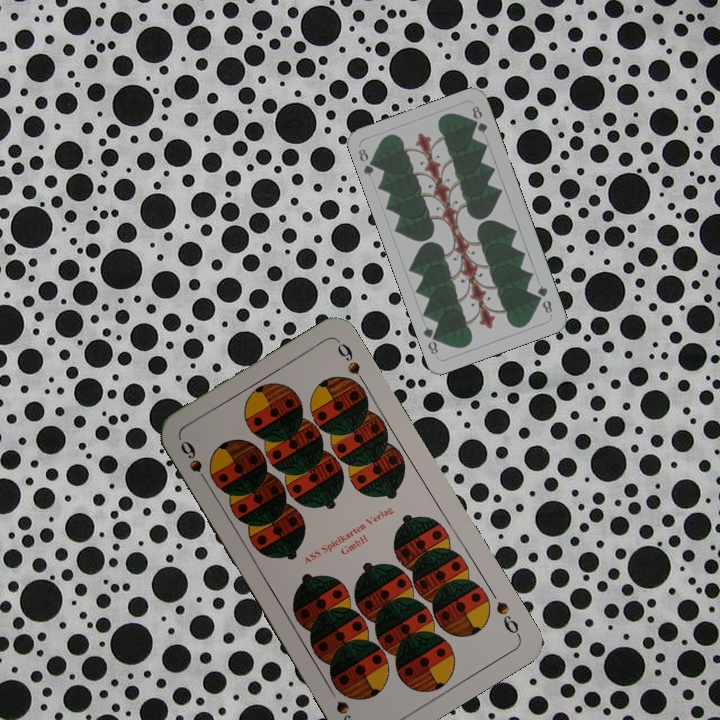G8: (354, 144, 379, 179), (533, 281, 555, 316)
S9: (176, 436, 213, 489), (491, 597, 523, 639)
